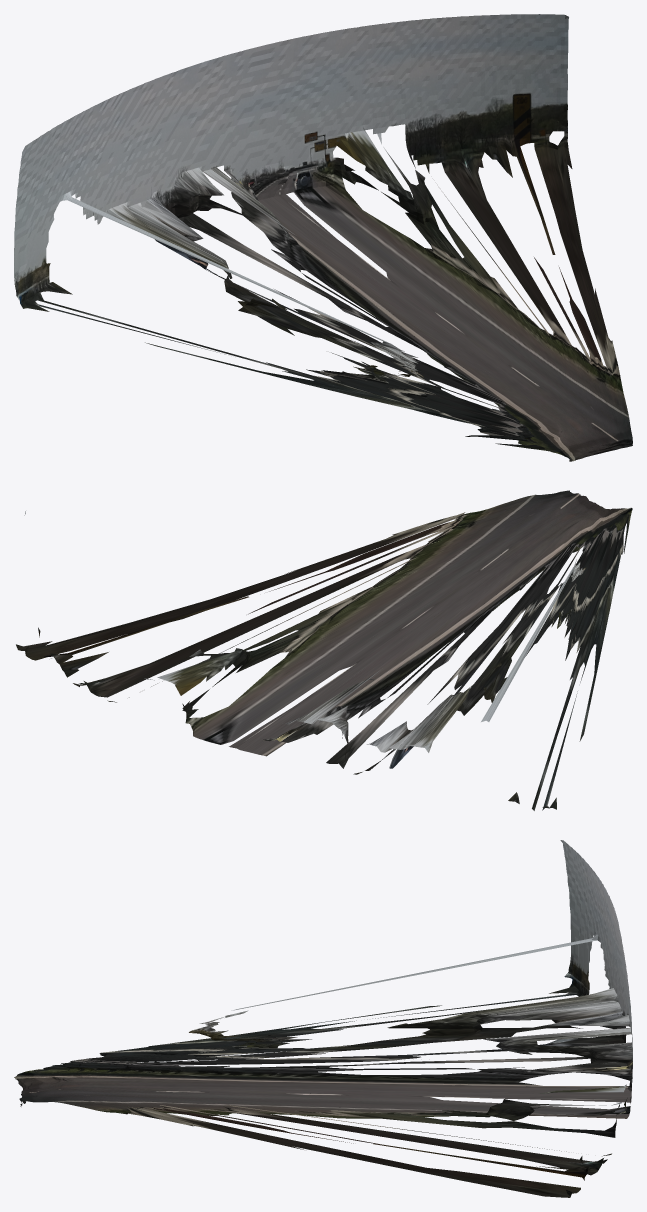
The picture shows the model from 3 angles, top to bottom: view 1: azimuth 30°, elevation 25°; view 2: azimuth 150°, elevation 25°; view 3: azimuth 270°, elevation 25°; orthographic projection. The views are drawn at different scales.
Parts seen in each view (by area): view 1: defaultobject; view 2: defaultobject; view 3: defaultobject.
Boxes of the visible parts, box(x1,y1,x2,y2) form: defaultobject: box(14, 14, 632, 461); defaultobject: box(16, 490, 632, 810); defaultobject: box(14, 840, 632, 1197).
Bounding box in the file's own units: 41.16 × 12.58 × 44.68.
1 material, 1 textured.
